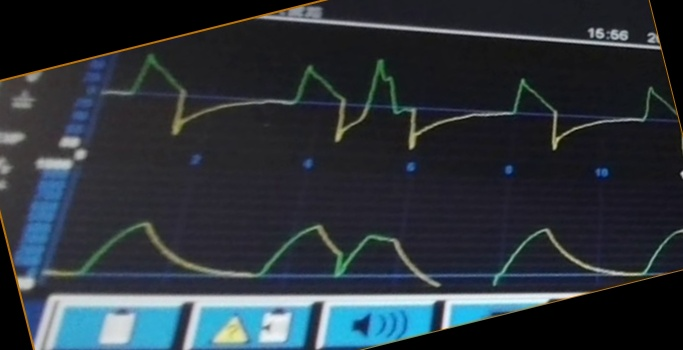Double_Triggering Flow: (133, 50, 634, 154)
Double_Triggering Volume: (76, 206, 603, 288)
